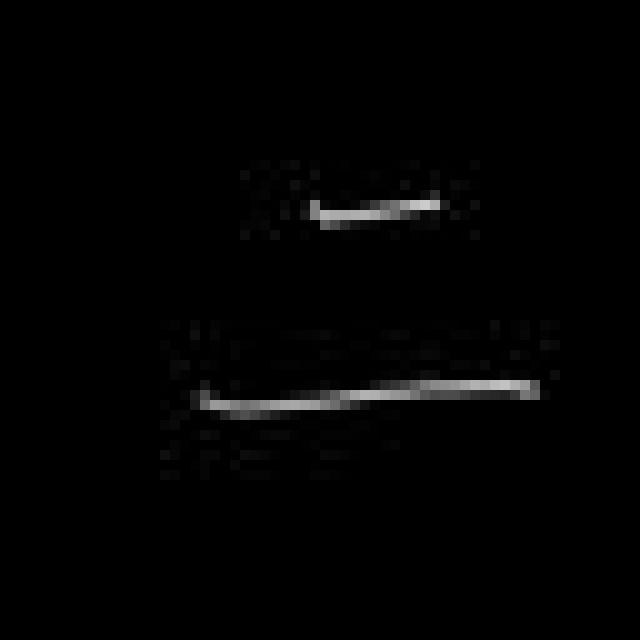2 -two-: (166, 184, 562, 428)
